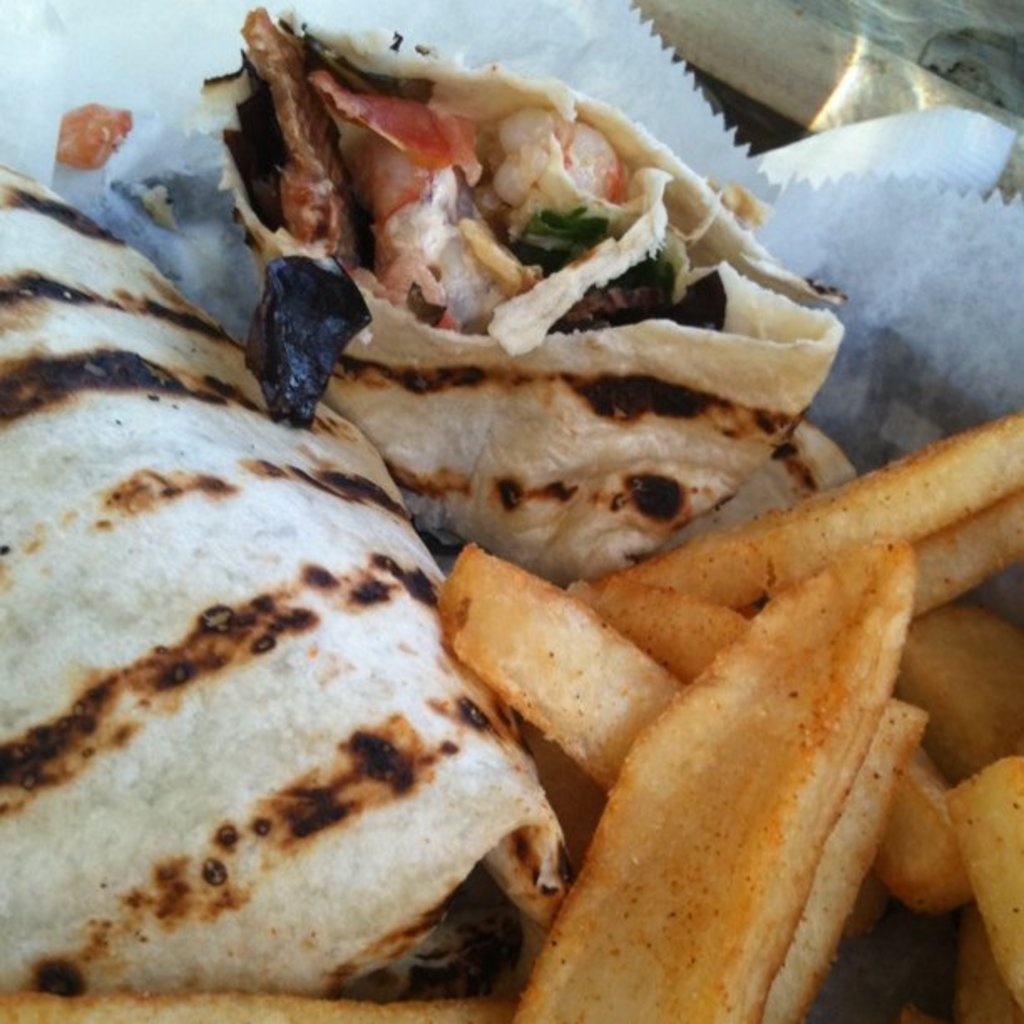French fries: (426, 312, 1024, 1024)
